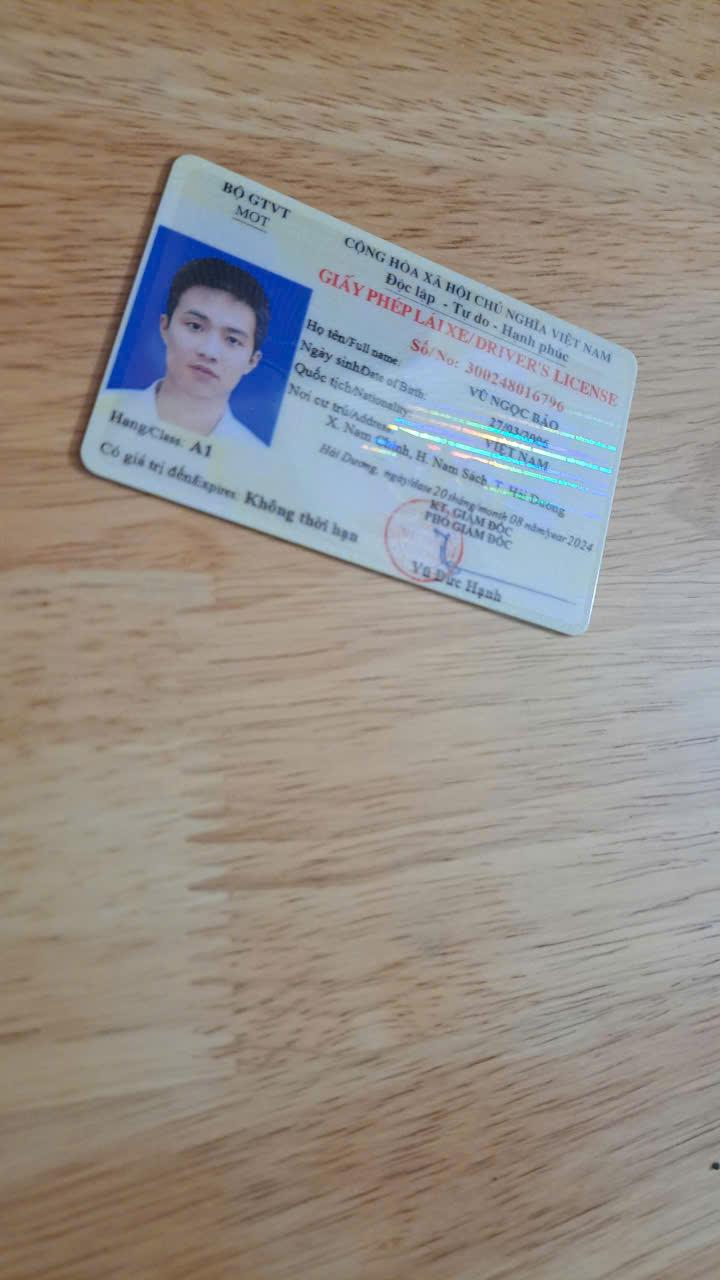gplx: (60, 145, 642, 655)
